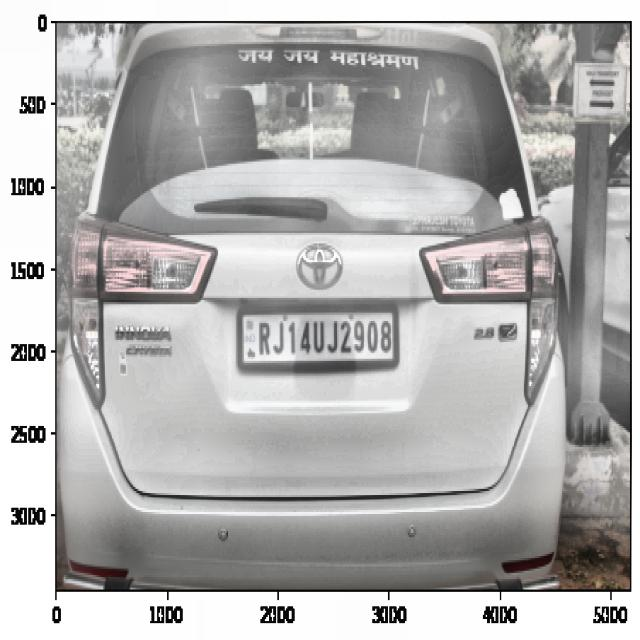license_plate: (252, 307, 395, 371)
